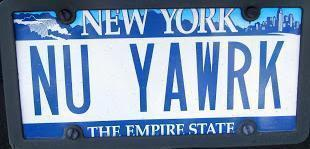placa de veiculo: (15, 5, 305, 141)
